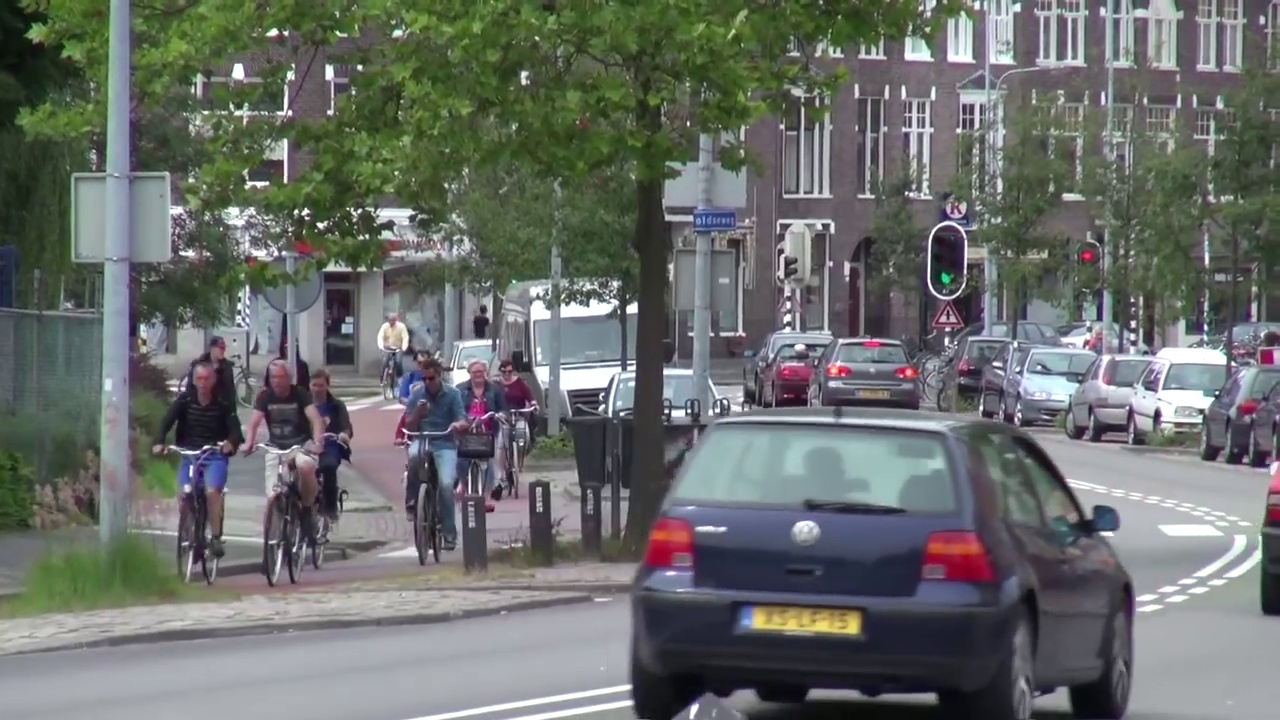cyclist_front: (160, 360, 239, 586), (242, 358, 318, 592), (303, 356, 360, 567), (399, 357, 454, 570), (452, 360, 497, 542), (488, 356, 540, 499), (372, 309, 407, 405)
